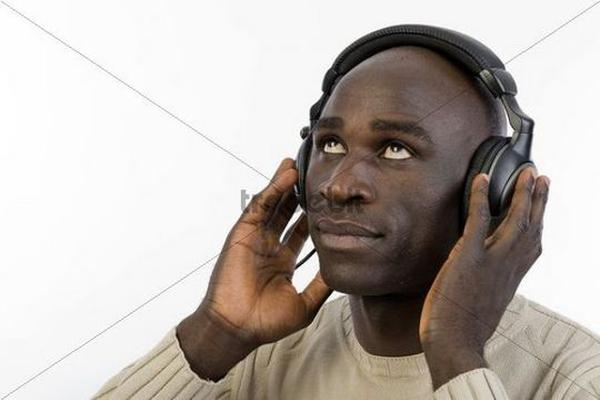headphone: (279, 11, 585, 277)
